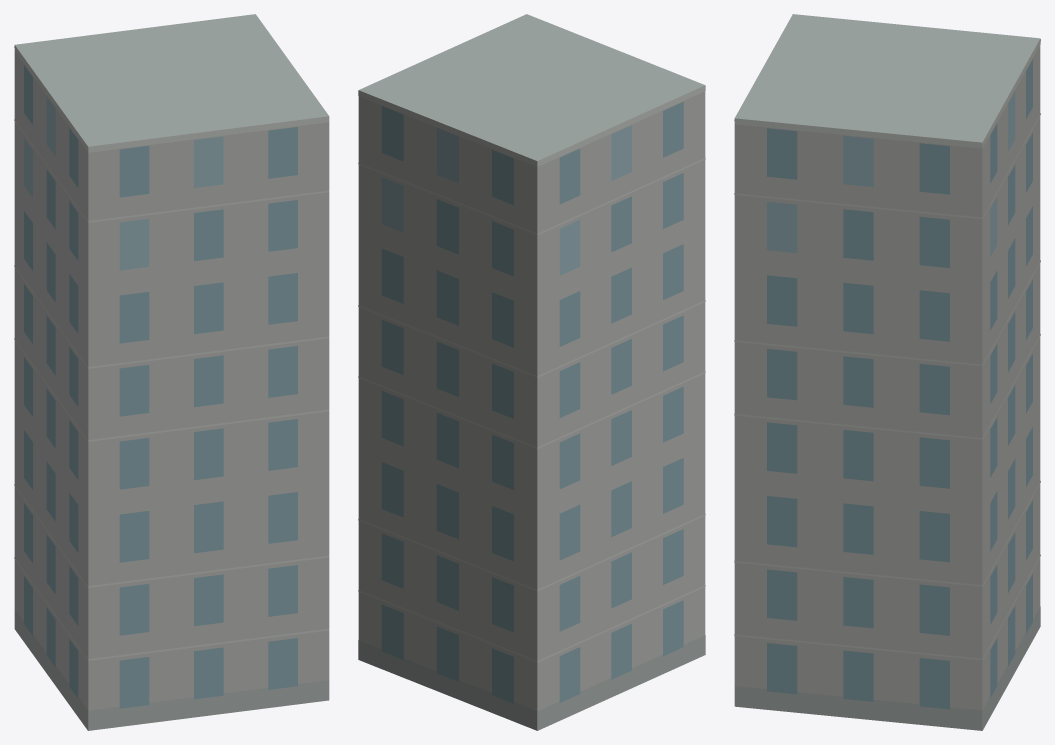
File: survey-upis-32652852.glb
3 renders of one model, left to right at view 1: azimuth 30°, elevation 25°; view 2: azimuth 150°, elevation 25°; view 3: azimuth 270°, elevation 25°, orthographic. The views are drawn at different scales.
Visible parts, largest first — view 1: survey-upis-32652852.tmp; view 2: survey-upis-32652852.tmp; view 3: survey-upis-32652852.tmp.
Part boxes in pixels (x1,y1,x2,y2): survey-upis-32652852.tmp: [14, 14, 329, 730]; survey-upis-32652852.tmp: [358, 14, 705, 730]; survey-upis-32652852.tmp: [734, 14, 1040, 730].
Size of the model in its own units: 11 by 23.4 by 11.06.
